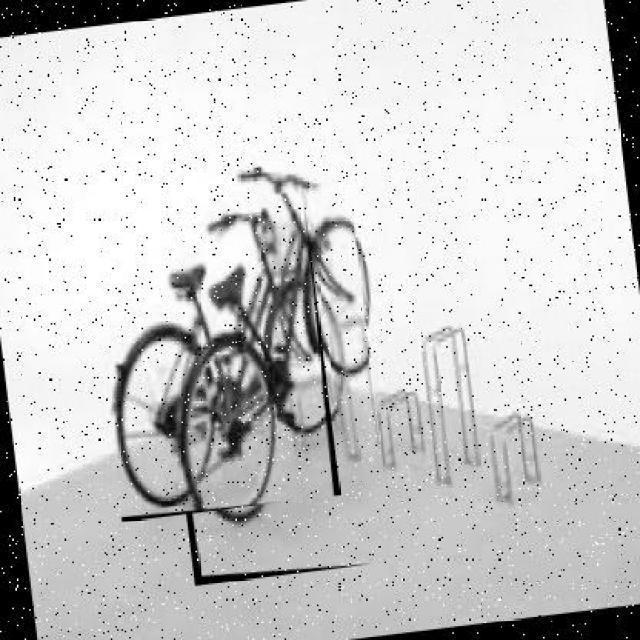bicycle: (143, 156, 394, 587), (83, 197, 340, 523)
